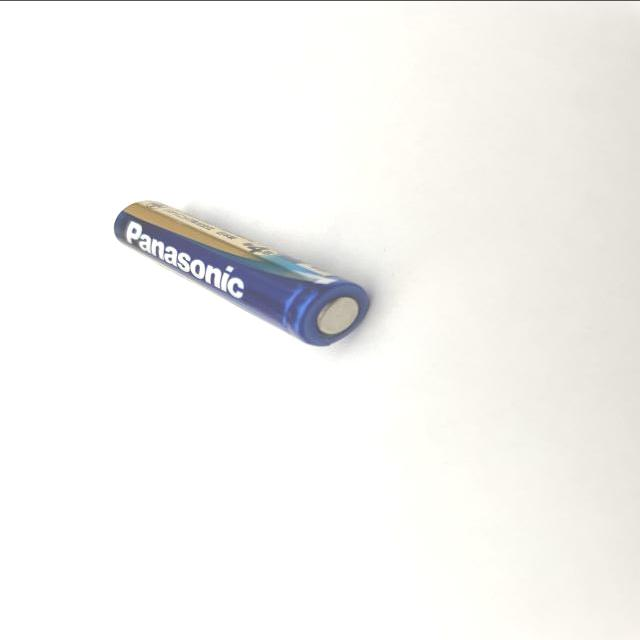AAA: (114, 198, 371, 346)
